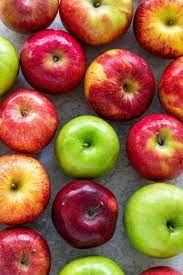apple: (2, 28, 183, 178)
